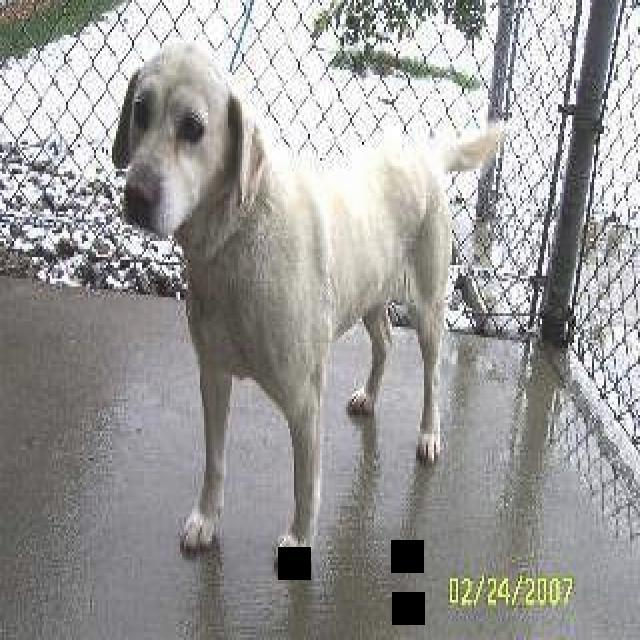adult_dog: (106, 37, 510, 580)
